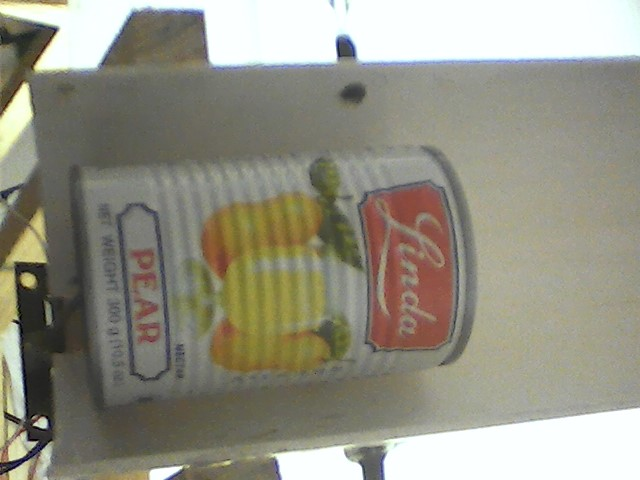lata: (64, 144, 488, 415)
